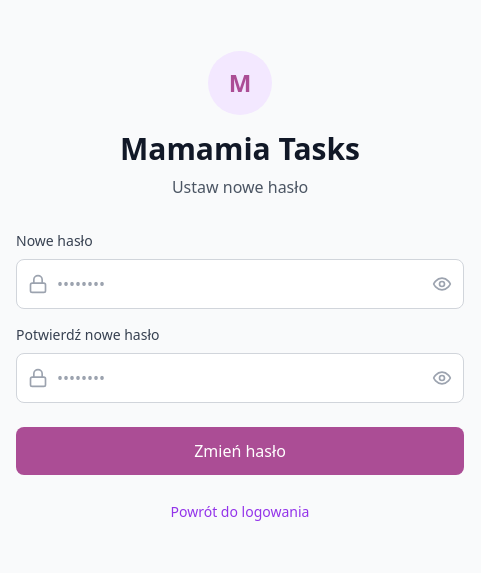
it: ResetPasswordForm › shows error from updatePassword
This screenshot has width=481, height=573.
Type "newpassword123" into the password field labelled "Nowe hasło".
click(240, 284); type("newpassword123")  # box [16, 259, 464, 309]
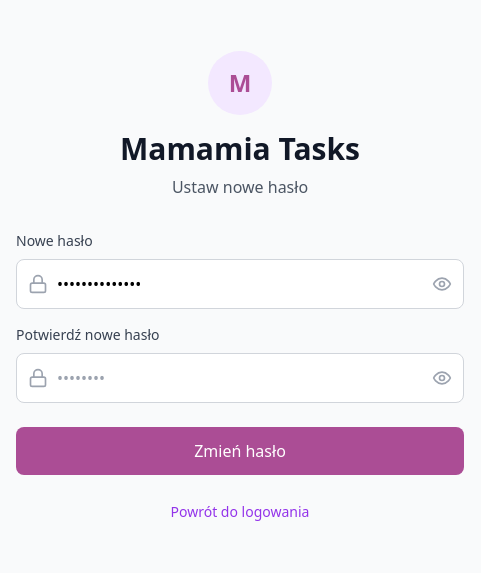
Type "newpassword123" into the password field labelled "Potwierdź nowe hasło".
click(240, 378); type("newpassword123")  # box [16, 353, 464, 403]
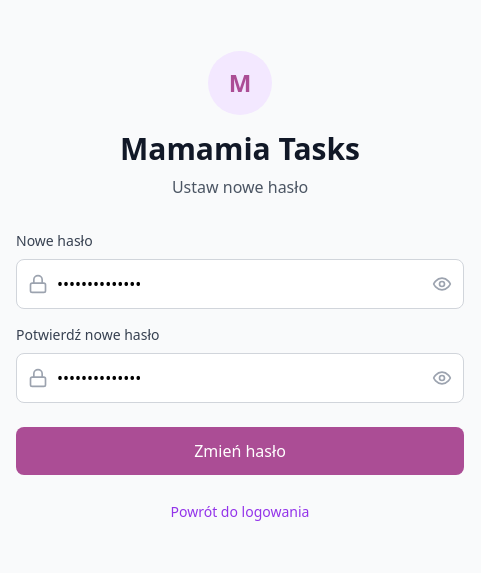
Click the button "Zmień hasło".
click(240, 451)  # box [16, 427, 464, 475]
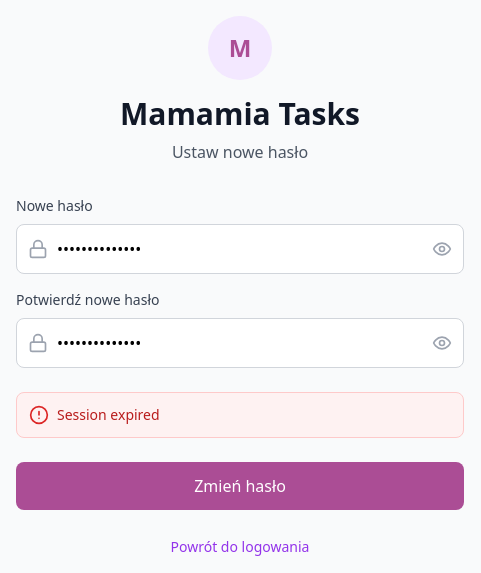
Expected: the text "Session expired" is shown, [57, 405, 160, 425]
